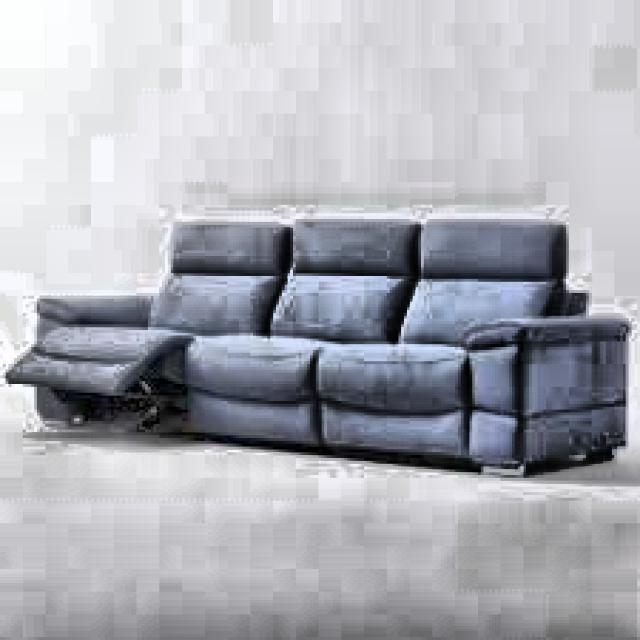sofa: (29, 219, 632, 486)
